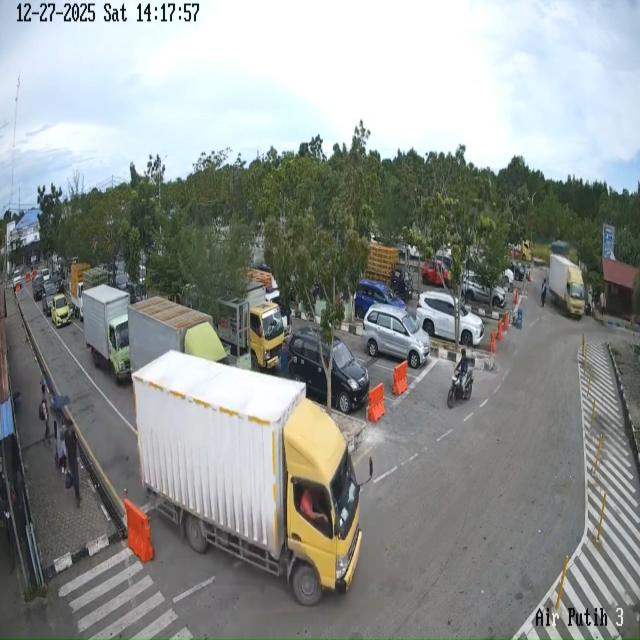Golongan IVA: (287, 326, 370, 414), (362, 305, 430, 369), (416, 291, 484, 347), (354, 279, 406, 320), (463, 272, 506, 308), (51, 294, 72, 328), (42, 281, 60, 316), (32, 274, 45, 302)
Golongan IVB: (70, 263, 90, 321)
Golongan VB: (132, 350, 373, 606), (128, 296, 228, 371), (82, 284, 130, 382), (548, 254, 585, 319)
